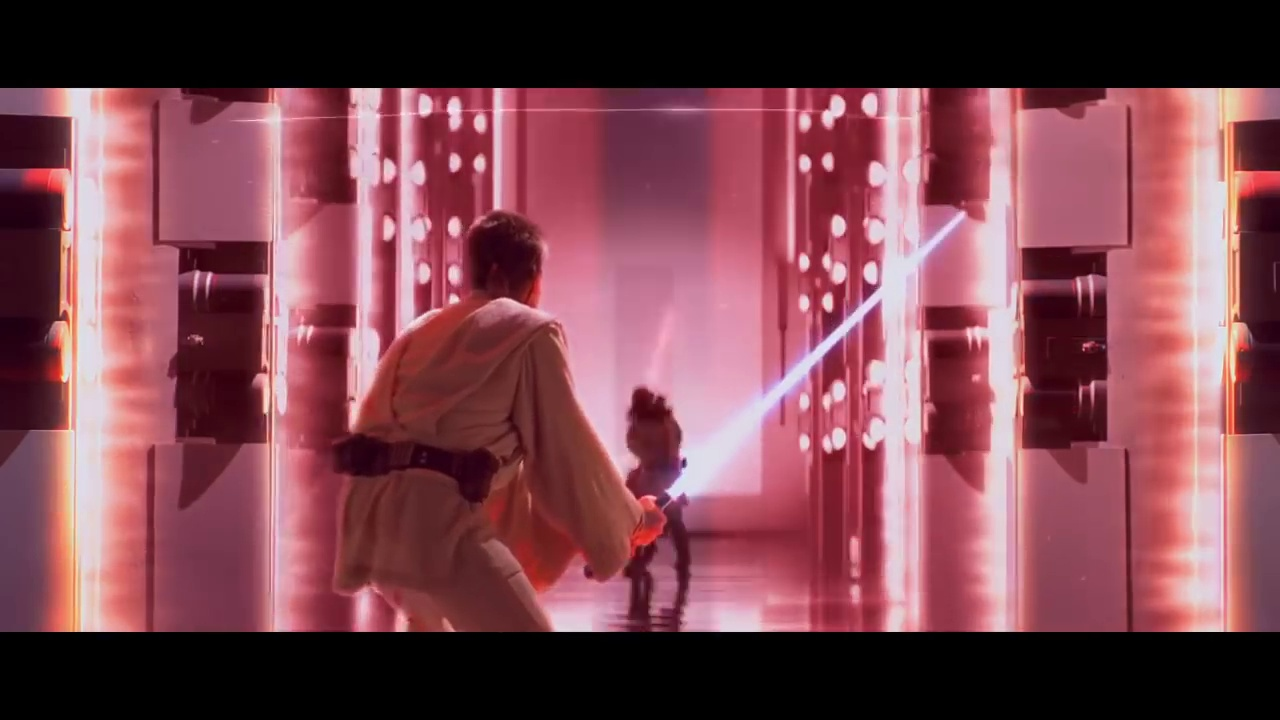lightsaber: (653, 200, 970, 514)
